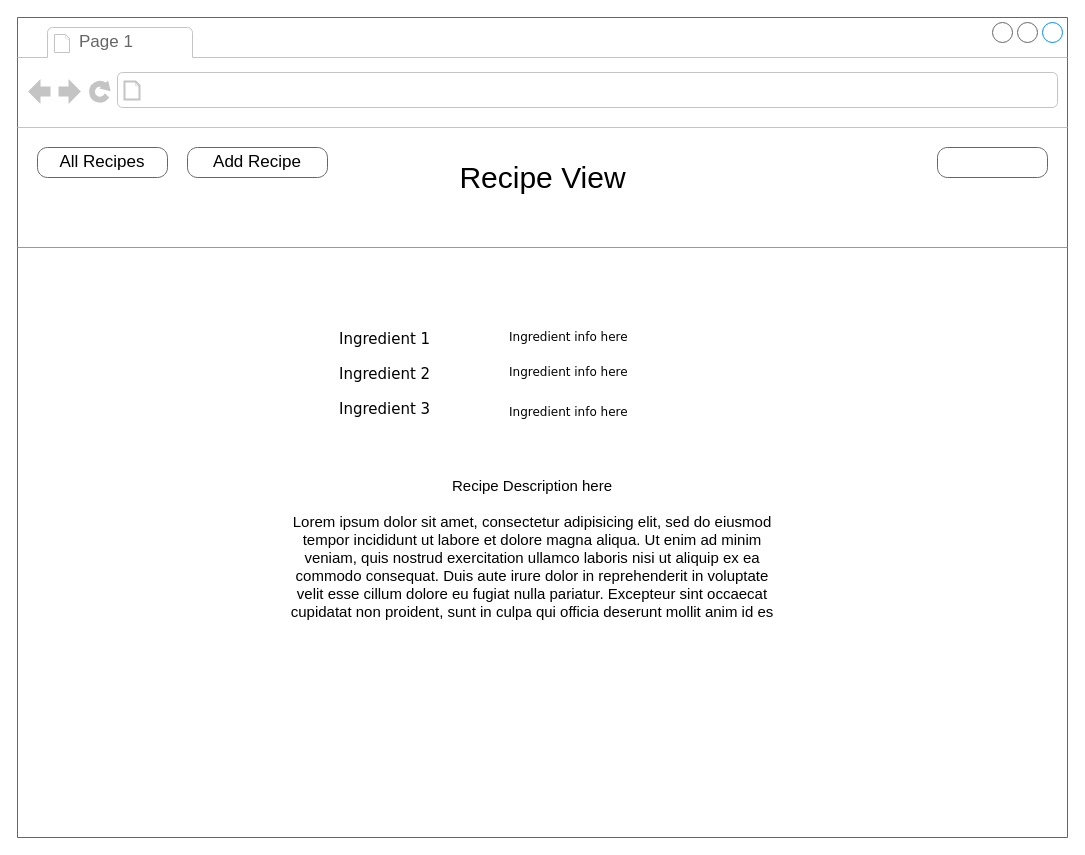
The diagram is 1085 pixels wide and 855 high, and some of its shapes have lost their labels. Each missing label, with the centre of its shape:
https://www.default.com: (x=272, y=90)
Log Out: (x=992, y=162)
